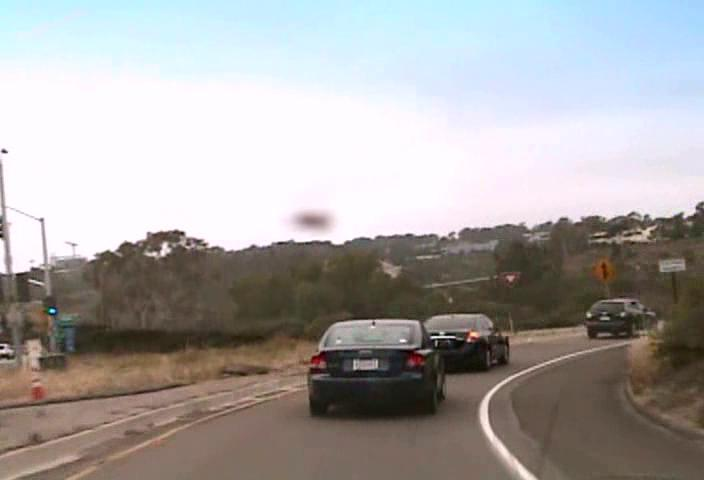merge: (591, 256, 617, 286)
